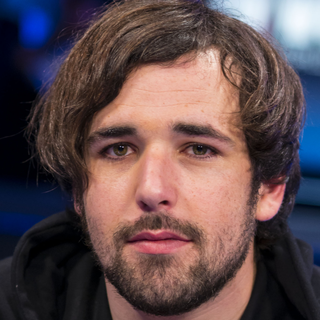eye: (171, 134, 223, 166), (92, 139, 143, 164)
